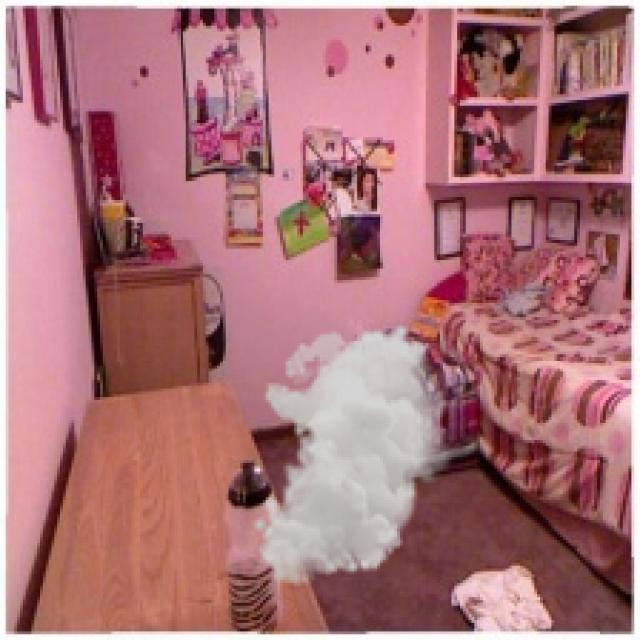smoke: (252, 323, 457, 586)
